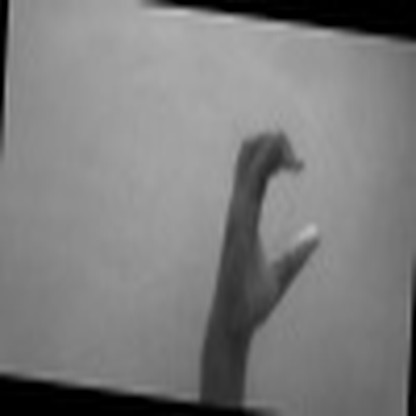c: (214, 125, 322, 312)
